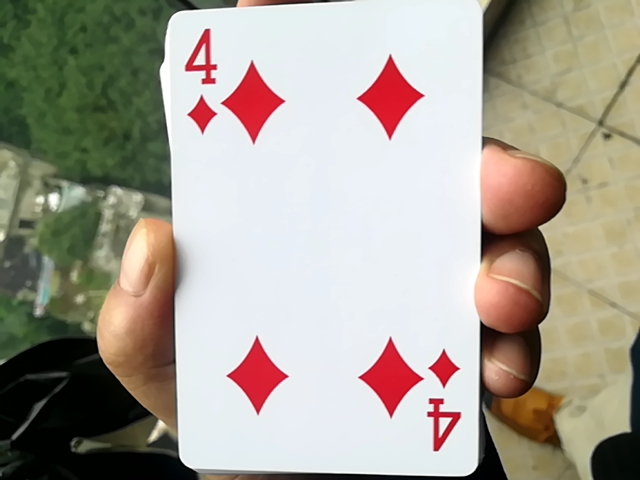fk 4: (146, 0, 485, 477)
